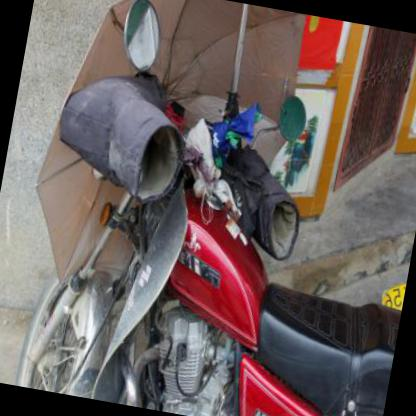motorcycle: (14, 0, 415, 415), (375, 90, 415, 331)
